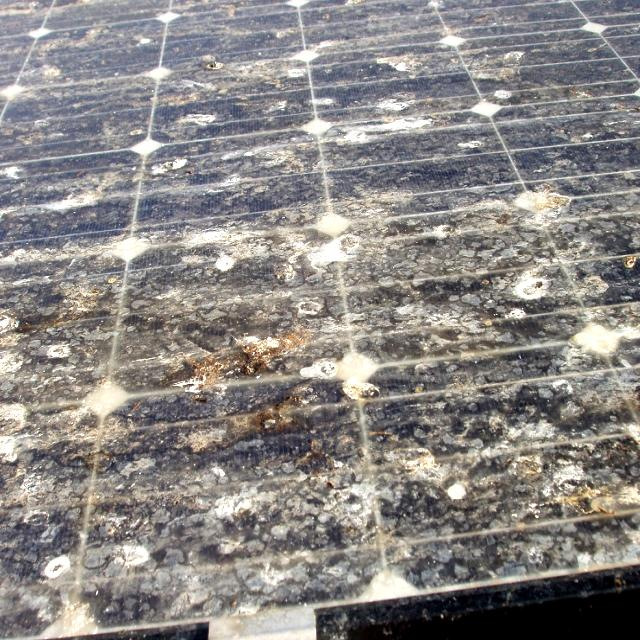bird: (152, 322, 340, 482), (188, 206, 360, 266), (548, 456, 640, 538), (502, 258, 560, 336)
